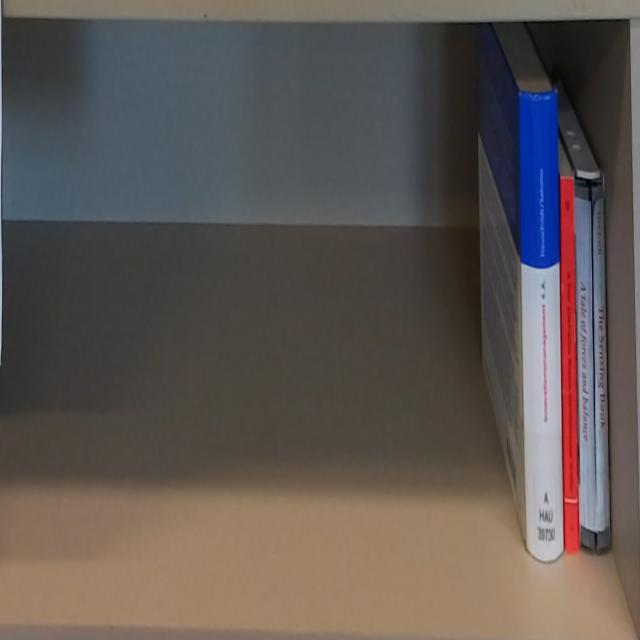Book Spine: (519, 88, 567, 566), (575, 176, 612, 554), (561, 175, 579, 552)
